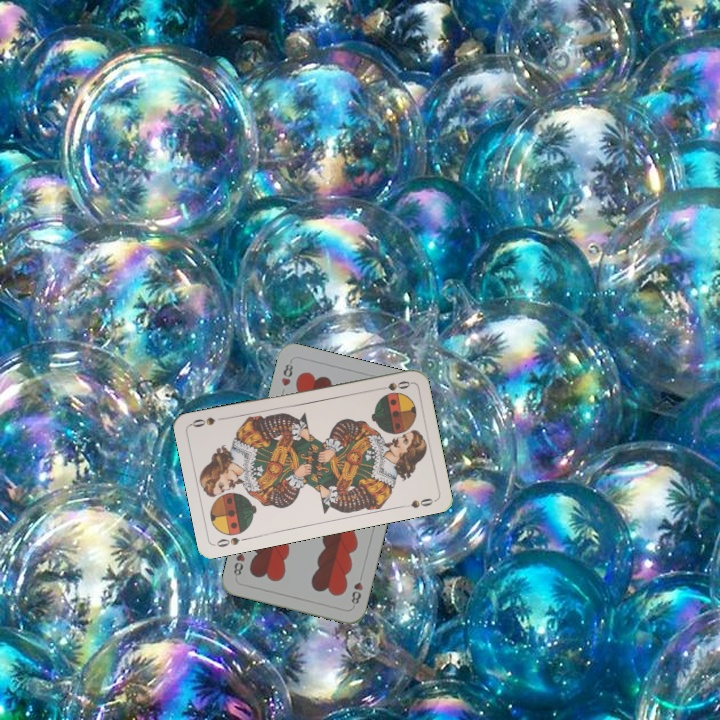H8: (277, 357, 296, 389), (347, 578, 365, 607)
SO: (212, 533, 252, 550), (372, 377, 413, 393)
